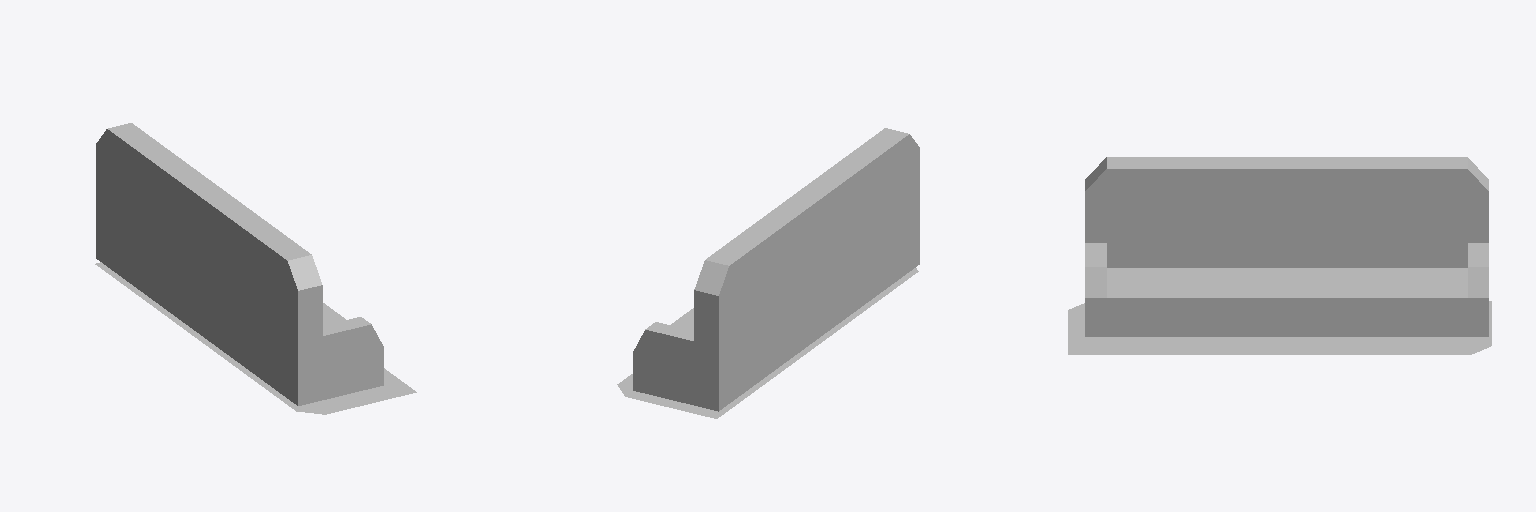
The model's file is Sofa 7.obj.
3 renders of one model, left to right at view 1: azimuth 30°, elevation 25°; view 2: azimuth 150°, elevation 25°; view 3: azimuth 270°, elevation 25°, orthographic.
Parts seen in each view (by area): view 1: polygon1, polygon0; view 2: polygon1, polygon0; view 3: polygon1, polygon0.
Boxes of the visible parts, <box> form: polygon1: <box>96,123,383,405</box>; polygon0: <box>95,262,416,414</box>; polygon1: <box>633,128,919,411</box>; polygon0: <box>617,268,918,418</box>; polygon1: <box>1085,157,1488,336</box>; polygon0: <box>1068,301,1491,354</box>.
Bounding box in the file's own units: 18 × 22.5 × 60.